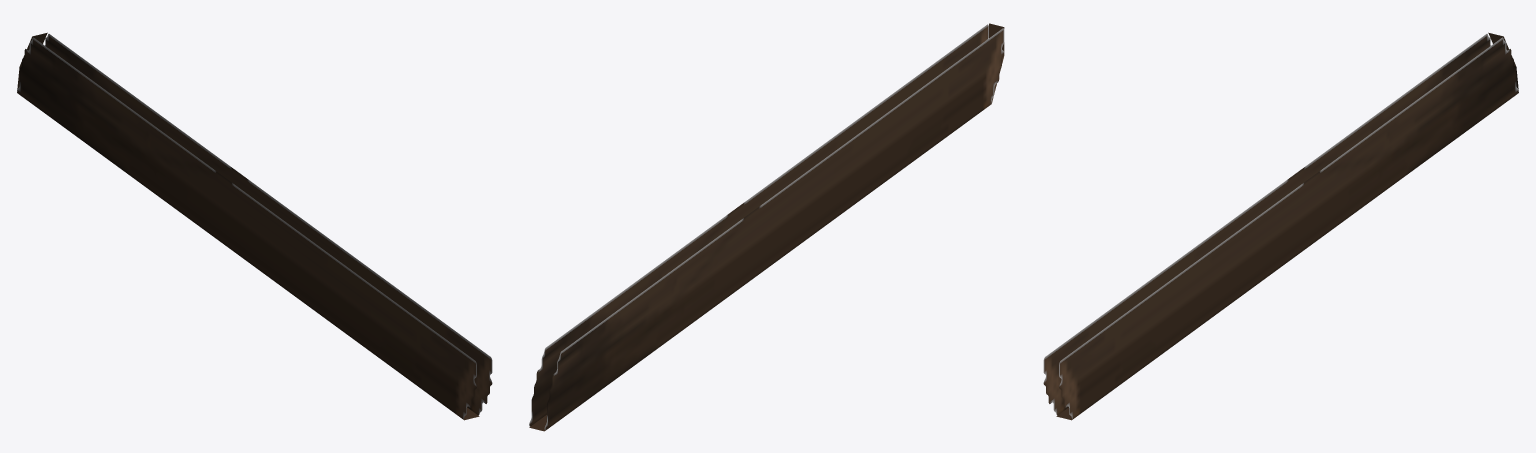
Rendered from pz_native_fixtures_railings_01_45_frame.obj.
3 renders of one model, left to right at view 1: azimuth 30°, elevation 25°; view 2: azimuth 150°, elevation 25°; view 3: azimuth 330°, elevation 25°, orthographic.
Visible parts, largest first — view 1: pz_native_fixtures_railings_01_45_frame; view 2: pz_native_fixtures_railings_01_45_frame; view 3: pz_native_fixtures_railings_01_45_frame.
Boxes of the visible parts, <box> form: pz_native_fixtures_railings_01_45_frame: <box>17,32,492,420</box>; pz_native_fixtures_railings_01_45_frame: <box>529,23,1004,431</box>; pz_native_fixtures_railings_01_45_frame: <box>1043,32,1518,420</box>.
Bounding box in the file's own units: 0.045 × 0.2188 × 2.35.
1 material, 1 textured.
